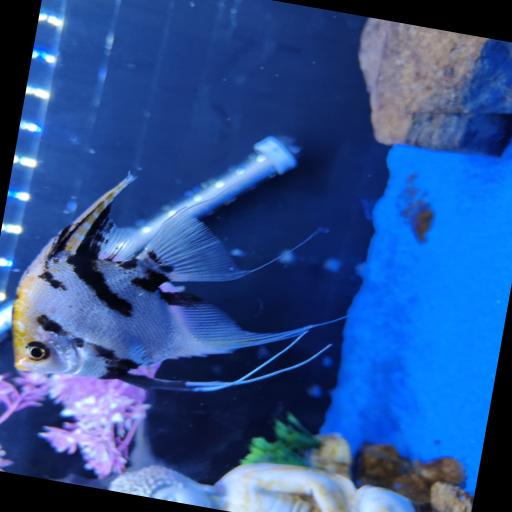Fish: (13, 175, 318, 390)
